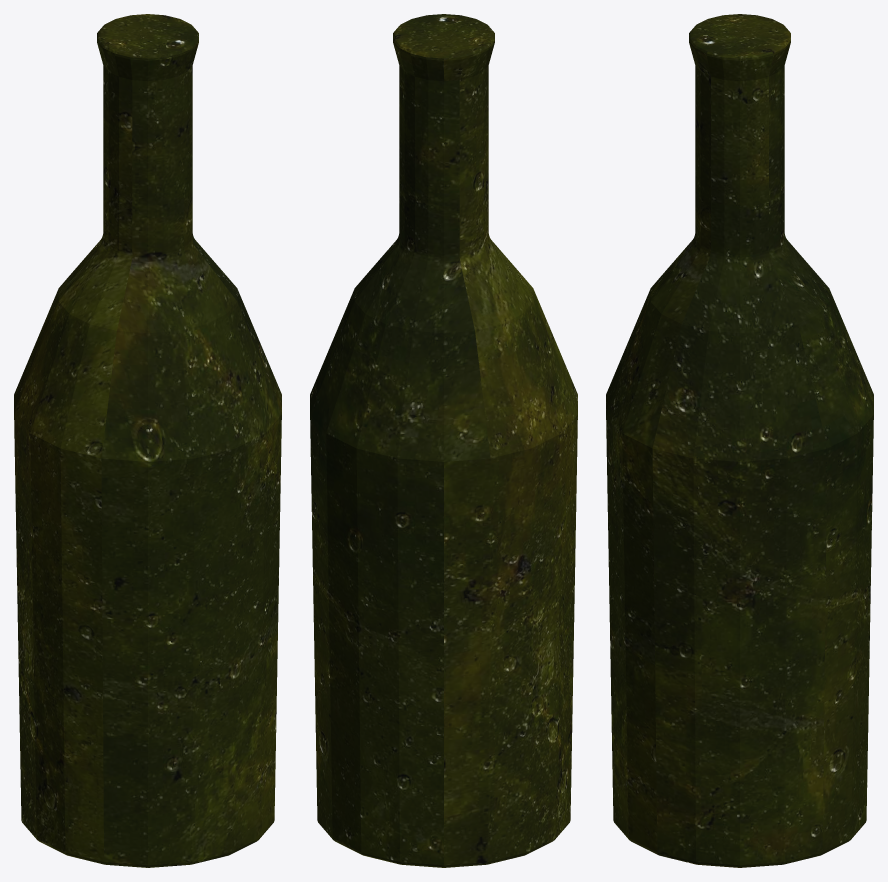
File: wine-bottle-v01.glb
3 renders of one model, left to right at view 1: azimuth 30°, elevation 25°; view 2: azimuth 150°, elevation 25°; view 3: azimuth 270°, elevation 25°, orthographic.
Visible parts, largest first — view 1: wine-bottle; view 2: wine-bottle; view 3: wine-bottle.
Boxes of the visible parts, <box> form: wine-bottle: <box>14,14,281,867</box>; wine-bottle: <box>310,14,577,867</box>; wine-bottle: <box>606,14,873,867</box>.
Bounding box in the file's own units: 0.207 × 0.6555 × 0.2039.
Materials: 1 (1 with a texture image).
